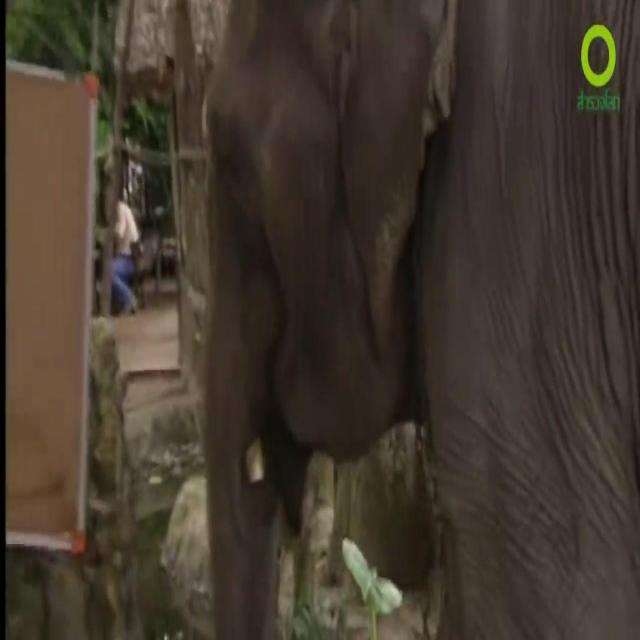Elephant: (197, 3, 594, 621)
